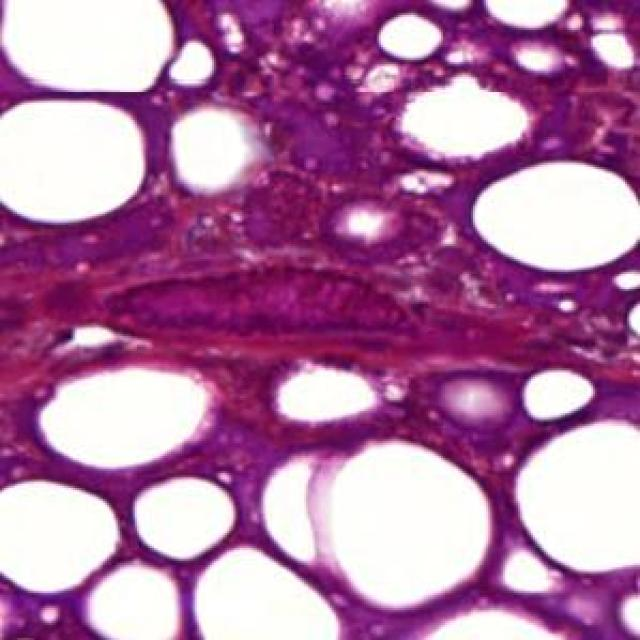steatosis: (0, 92, 148, 227), (475, 161, 640, 276), (0, 475, 124, 593), (133, 473, 233, 569)
